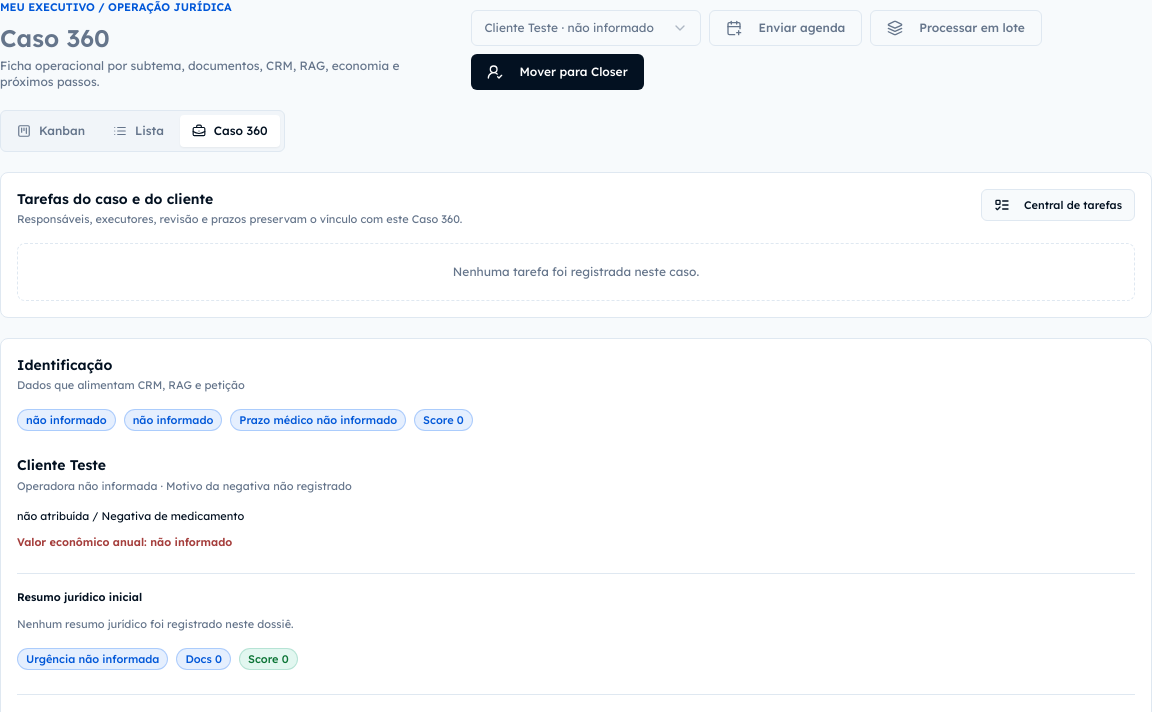
it: Processar em lote — Cliente › cria o lote recortado pelo cliente do card e mostra o painel real
Click the button "Processar em lote" at (956, 28), box [870,10,1042,46]
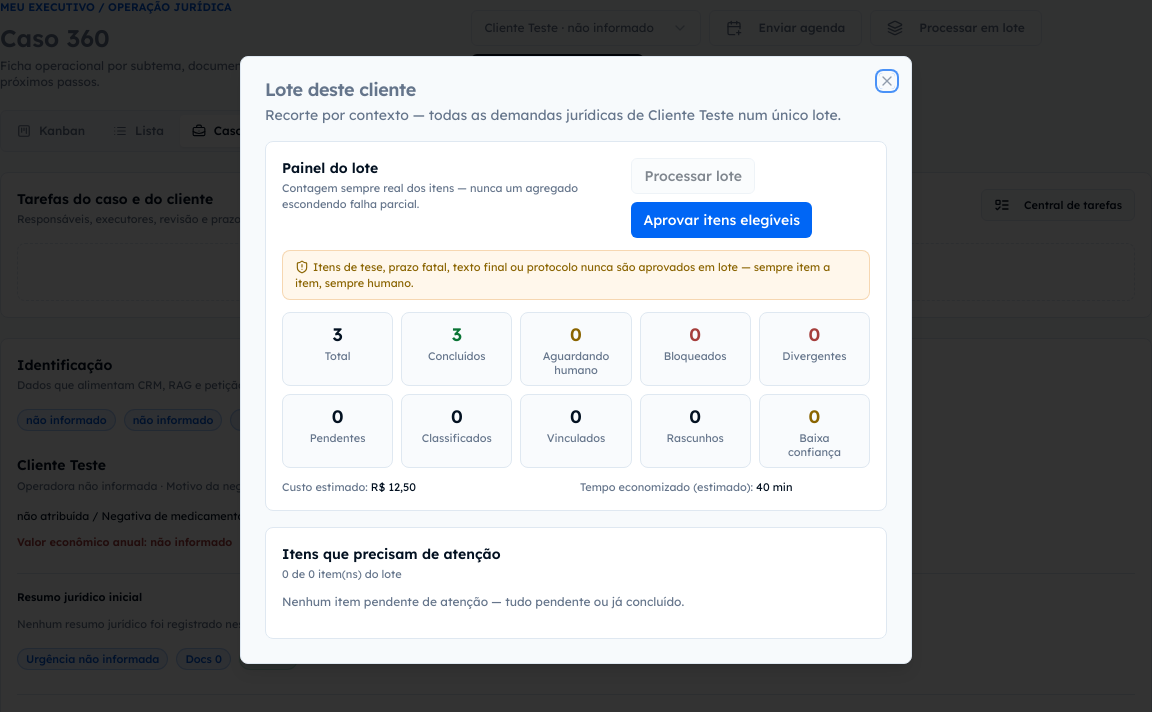
expect the element with test id "legal-batch-panel" is shown: met, box [265,141,887,639]
expect the heading "Lote deste cliente" is shown: met, box [265,78,416,101]
